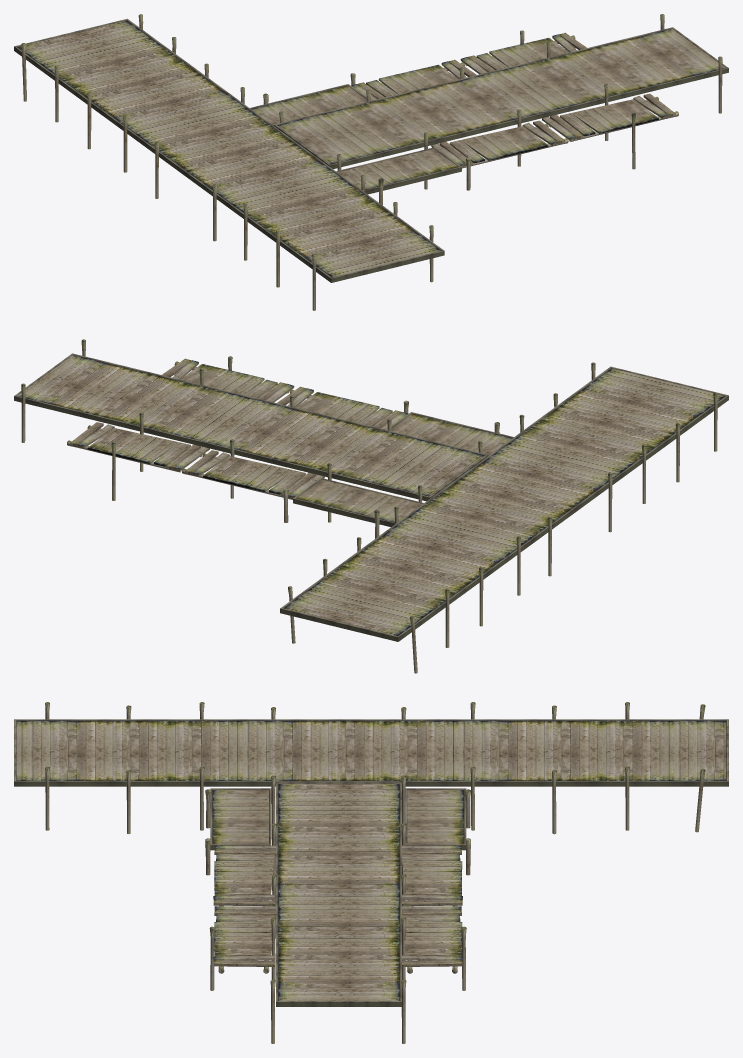
The model's file is wooden_floor.fbx.
The picture shows the model from 3 angles, top to bottom: view 1: azimuth 30°, elevation 25°; view 2: azimuth 150°, elevation 25°; view 3: azimuth 270°, elevation 25°; orthographic projection. The views are drawn at different scales.
Visible parts, largest first — view 1: Wood_3, Wood_1, Wood_30, Wood_29; view 2: Wood_3, Wood_1, Wood_29, Wood_30; view 3: Wood_3, Wood_1, Wood_30, Wood_29.
Part boxes in pixels (<box>): Wood_3: <box>14,18,444,282</box>; Wood_1: <box>274,27,728,169</box>; Wood_30: <box>336,93,678,205</box>; Wood_29: <box>250,30,586,125</box>; Wood_3: <box>280,366,728,641</box>; Wood_1: <box>14,353,488,501</box>; Wood_29: <box>67,422,423,538</box>; Wood_30: <box>162,356,513,455</box>; Wood_3: <box>14,719,728,786</box>; Wood_1: <box>276,782,401,1006</box>; Wood_30: <box>205,788,275,990</box>; Wood_29: <box>402,788,470,990</box>.
Size of the model in its own units: 1505 by 177 by 1596.
1 material, 1 textured.
